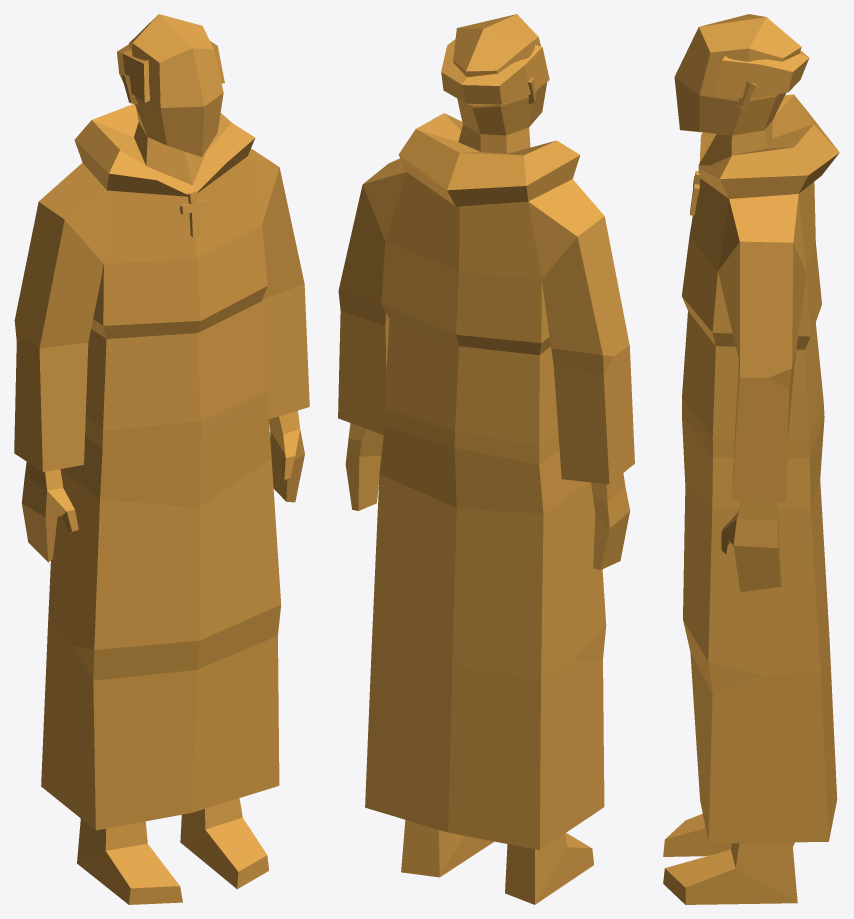
File: man-monk.fbx
The picture shows the model from 3 angles, left to right: view 1: azimuth 30°, elevation 25°; view 2: azimuth 150°, elevation 25°; view 3: azimuth 270°, elevation 25°; orthographic projection.
Visible parts, largest first — view 1: man-monk; view 2: man-monk; view 3: man-monk.
Boxes of the visible parts, left/top/right/bottom form: man-monk: left=14, top=14, right=309, bottom=904; man-monk: left=338, top=14, right=634, bottom=904; man-monk: left=663, top=14, right=839, bottom=904.
Bounding box in the file's own units: 0.599 × 1.79 × 0.3359.
